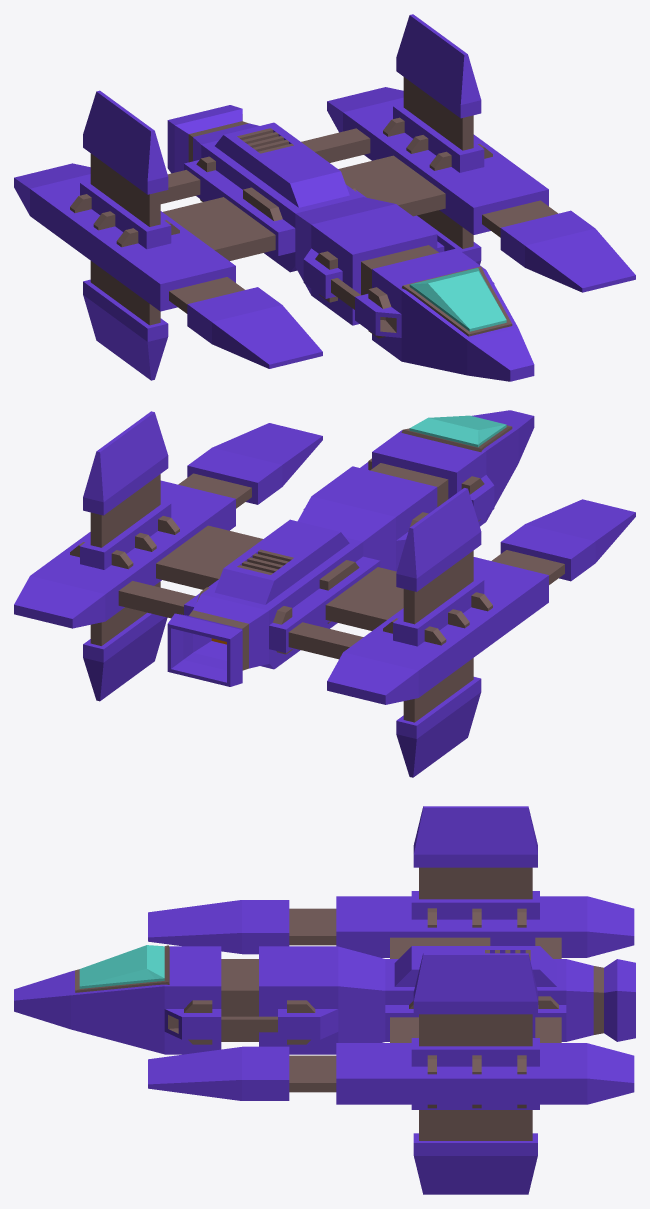
Rendered from EnemyShip2.fbx.
3 views of the same model, one above another, from view 1: azimuth 30°, elevation 25°; view 2: azimuth 150°, elevation 25°; view 3: azimuth 270°, elevation 25° (orthographic). The views are drawn at different scales.
Parts seen in each view (by area): view 1: Fighter_3; view 2: Fighter_3; view 3: Fighter_3.
Part boxes in pixels (x1,y1,x2,y2): Fighter_3: [14, 14, 635, 381]; Fighter_3: [14, 410, 635, 777]; Fighter_3: [14, 806, 635, 1194].
Size of the model in its own units: 45.84 by 28.08 by 66.08.
